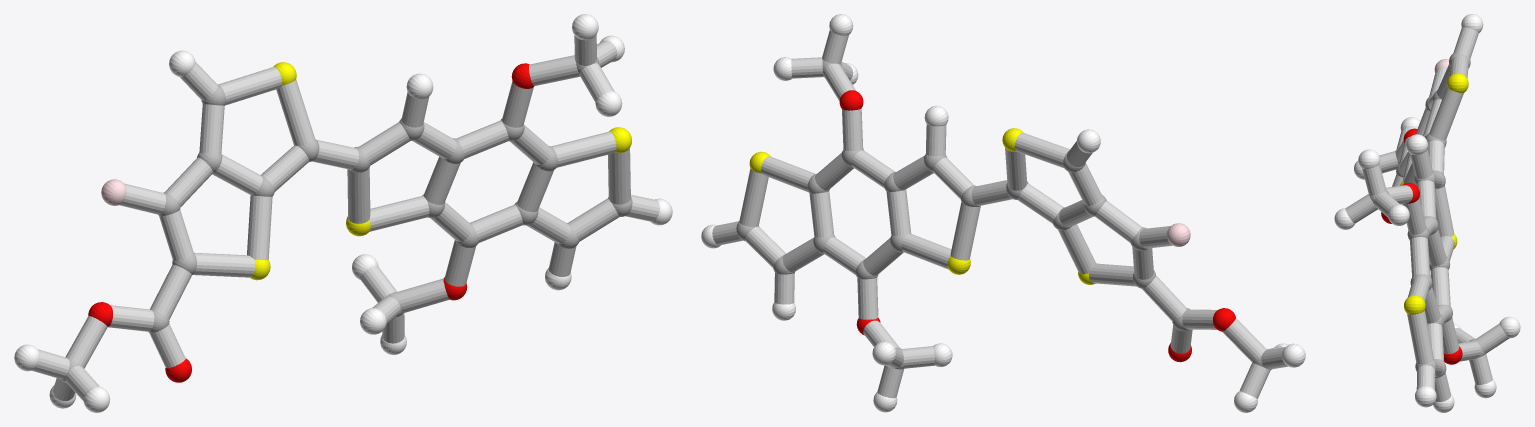
The model's file is Dimethoxy_Benzodithiophene_Phi_10_Theta_30_Methylcarbonyl_3_Fluoro_Thienothiophene.glb.
3 views of the same model, side by side, from view 1: azimuth 30°, elevation 25°; view 2: azimuth 150°, elevation 25°; view 3: azimuth 270°, elevation 25° (orthographic). The views are drawn at different scales.
Parts seen in each view (by area): view 1: grp15205, grp8689, grp1, grp13395, grp7241; view 2: grp15205, grp8689, grp1, grp13395, grp7241; view 3: grp15205, grp8689, grp1, grp7241, grp13395.
Boxes of the visible parts, x1,y1,x2,y2 form: grp15205: [32, 35, 659, 401]; grp8689: [14, 14, 672, 412]; grp1: [61, 57, 632, 382]; grp13395: [88, 63, 534, 382]; grp7241: [250, 62, 631, 280]; grp15205: [712, 30, 1288, 398]; grp8689: [701, 14, 1305, 412]; grp1: [736, 60, 1271, 370]; grp13395: [839, 90, 1235, 362]; grp7241: [749, 128, 1096, 284]; grp15205: [1345, 27, 1508, 401]; grp8689: [1334, 14, 1520, 412]; grp1: [1369, 53, 1485, 378]; grp7241: [1400, 73, 1468, 314]; grp13395: [1381, 128, 1462, 364].
Size of the model in its own units: 17.13 by 8.92 by 5.1.
